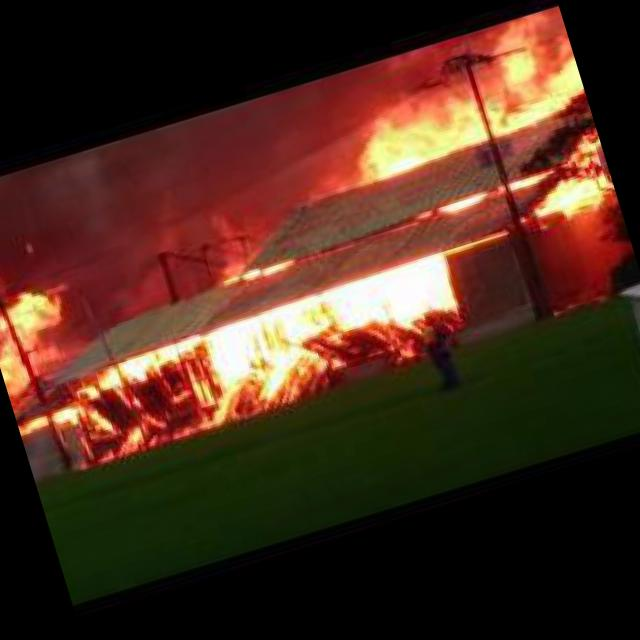fire: (326, 7, 592, 184), (198, 248, 472, 408), (0, 285, 93, 419), (504, 136, 618, 230), (70, 331, 208, 402), (18, 398, 116, 458), (412, 186, 486, 222), (224, 254, 297, 290), (123, 424, 145, 443)
